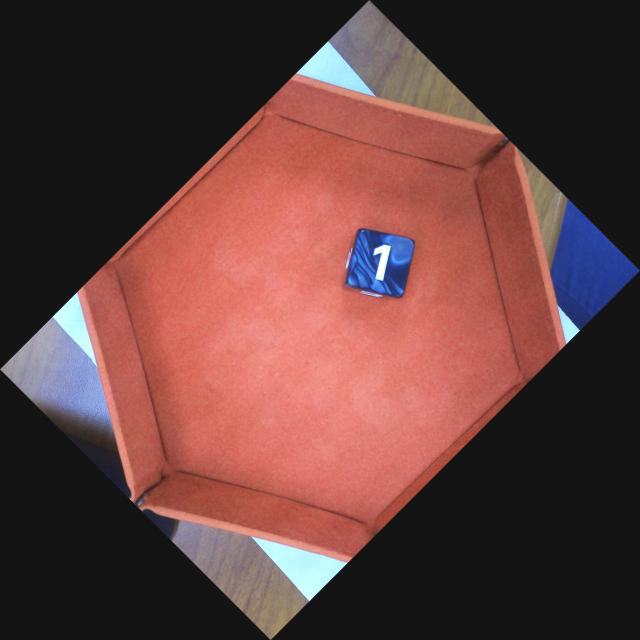dice: (348, 229, 409, 291)
